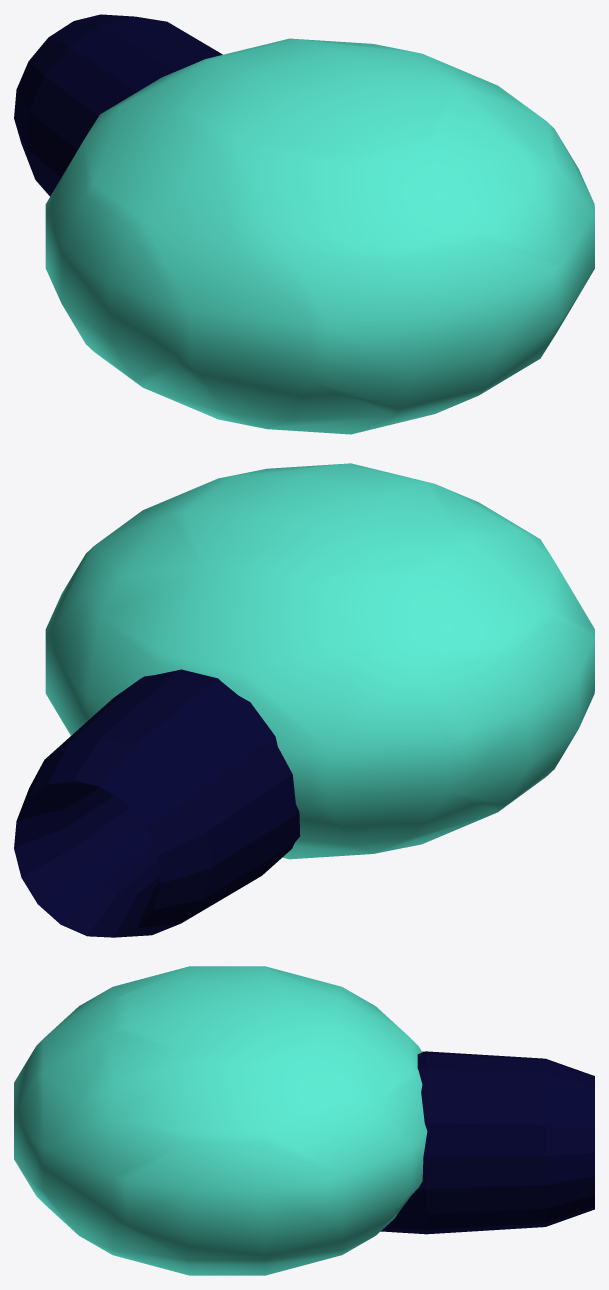
Rendered from normalEnemy.fbx.
The picture shows the model from 3 angles, top to bottom: view 1: azimuth 30°, elevation 25°; view 2: azimuth 150°, elevation 25°; view 3: azimuth 270°, elevation 25°; orthographic projection. The views are drawn at different scales.
Visible parts, largest first — view 1: Mball, Torus.001; view 2: Mball, Torus.001; view 3: Mball, Torus.001.
Boxes of the visible parts, x1,y1,x2,y2 form: Mball: [45, 38, 594, 434]; Torus.001: [14, 14, 222, 196]; Mball: [45, 463, 594, 859]; Torus.001: [14, 669, 300, 937]; Mball: [14, 966, 427, 1275]; Torus.001: [381, 1051, 594, 1234].
Size of the model in its own units: 2.23 by 1.42 by 3.04.
